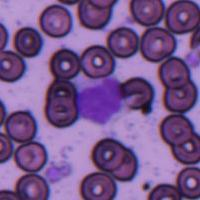M: (75, 74, 125, 125)
